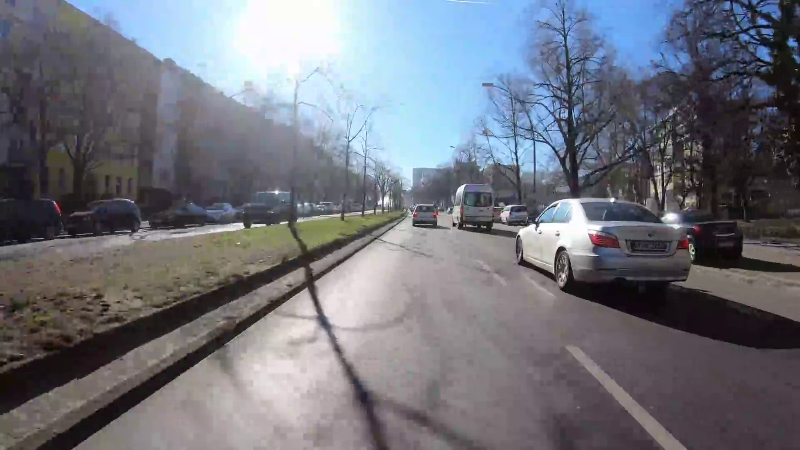Plate: (627, 239, 668, 252)
